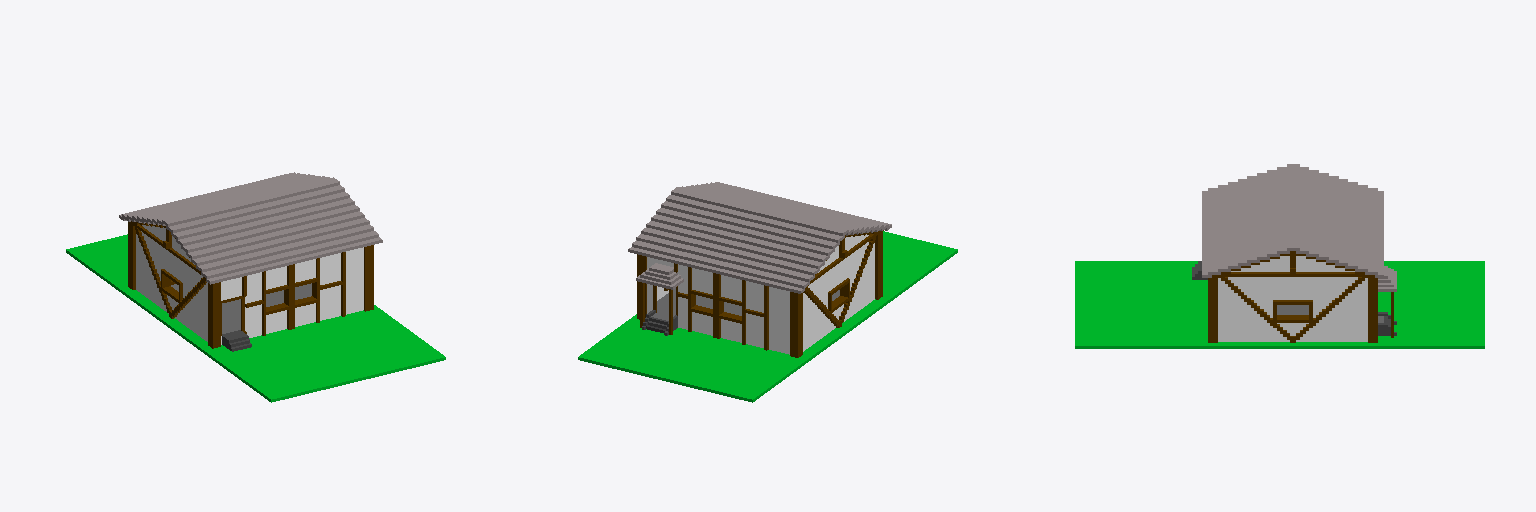
3 renders of one model, left to right at view 1: azimuth 30°, elevation 25°; view 2: azimuth 150°, elevation 25°; view 3: azimuth 270°, elevation 25°, orthographic.
Parts seen in each view (by area): view 1: object 1; view 2: object 1; view 3: object 1.
Part boxes in pixels (left/top/right/bottom): object 1: left=66, top=172, right=445, bottom=402; object 1: left=578, top=182, right=957, bottom=402; object 1: left=1075, top=164, right=1484, bottom=348.
Bounding box in the file's own units: 6.2 × 3.4 × 12.6.
Materials: 1 (1 with a texture image).